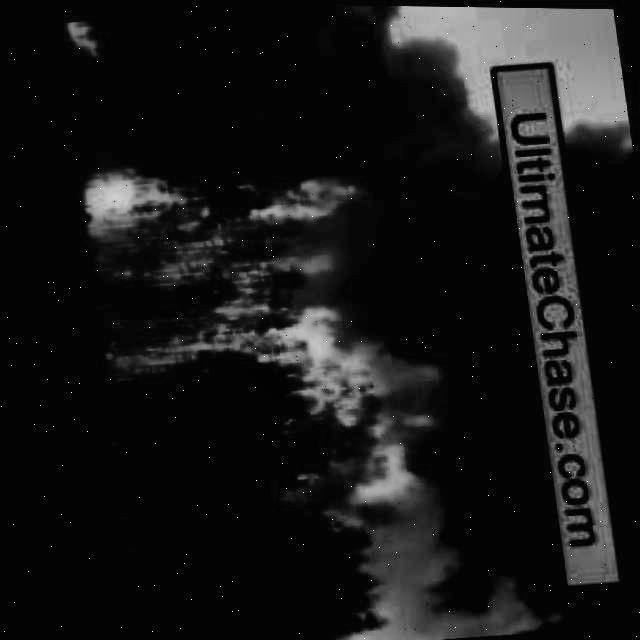Fire: (75, 130, 418, 528), (63, 19, 106, 56)
Smoke: (378, 43, 563, 638), (561, 128, 640, 623)
